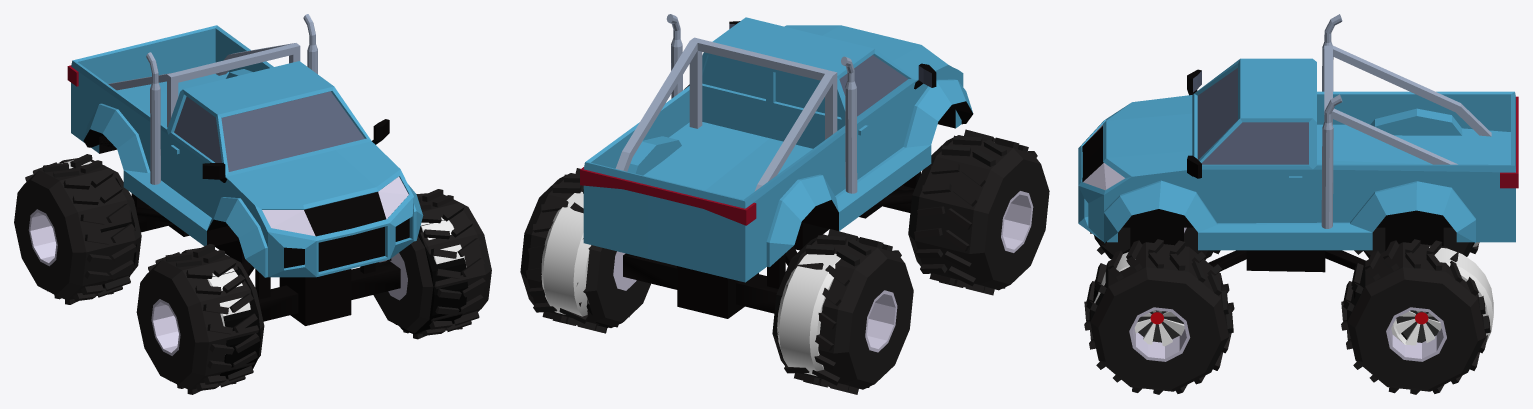
The model's file is MONSTERTRUCKWITHWHEELS.fbx.
3 views of the same model, side by side, from view 1: azimuth 30°, elevation 25°; view 2: azimuth 150°, elevation 25°; view 3: azimuth 270°, elevation 25° (orthographic). The views are drawn at different scales.
Visible parts, largest first — view 1: Monster Truck, Monster Truck wheel rear right, Monster Truck wheel front right, Monster Truck wheel front left, FWheels.003, FWheels.002, wheels3.001, wheels3.003; view 2: Monster Truck, Monster Truck wheel front right, Monster Truck wheel rear right, Monster Truck wheel rear left, wheels3.002, wheels3.004; view 3: Monster Truck, Monster Truck wheel front left, Monster Truck wheel rear left, wheels3.004, wheels4.001, wheels4.002, Monster Truck wheel rear right, Monster Truck wheel front right.
Part boxes in pixels (bbox=[...]): Monster Truck: bbox=[67, 14, 423, 325]; Monster Truck wheel rear right: bbox=[14, 154, 141, 304]; Monster Truck wheel front right: bbox=[136, 244, 264, 394]; Monster Truck wheel front left: bbox=[373, 189, 491, 339]; FWheels.003: bbox=[399, 220, 468, 334]; FWheels.002: bbox=[212, 256, 260, 379]; wheels3.001: bbox=[207, 268, 250, 354]; wheels3.003: bbox=[420, 217, 466, 267]; Monster Truck: bbox=[580, 14, 973, 318]; Monster Truck wheel front right: bbox=[908, 129, 1049, 295]; Monster Truck wheel rear right: bbox=[772, 229, 913, 394]; Monster Truck wheel rear left: bbox=[520, 168, 650, 333]; wheels3.002: bbox=[777, 253, 840, 376]; wheels3.004: bbox=[541, 191, 591, 316]; Monster Truck: bbox=[1078, 14, 1518, 272]; Monster Truck wheel front left: bbox=[1084, 239, 1234, 394]; Monster Truck wheel rear left: bbox=[1341, 239, 1490, 394]; wheels3.004: bbox=[1391, 246, 1493, 344]; wheels4.001: bbox=[1134, 310, 1184, 346]; wheels4.002: bbox=[1395, 310, 1441, 345]; Monster Truck wheel rear right: bbox=[1354, 227, 1478, 256]; Monster Truck wheel front right: bbox=[1090, 227, 1220, 260].
Size of the model in its own units: 332 by 277 by 408.
